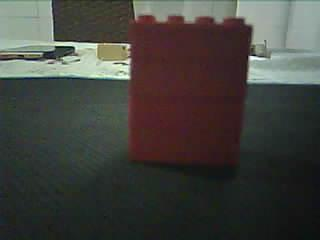lego: (128, 13, 253, 169)
